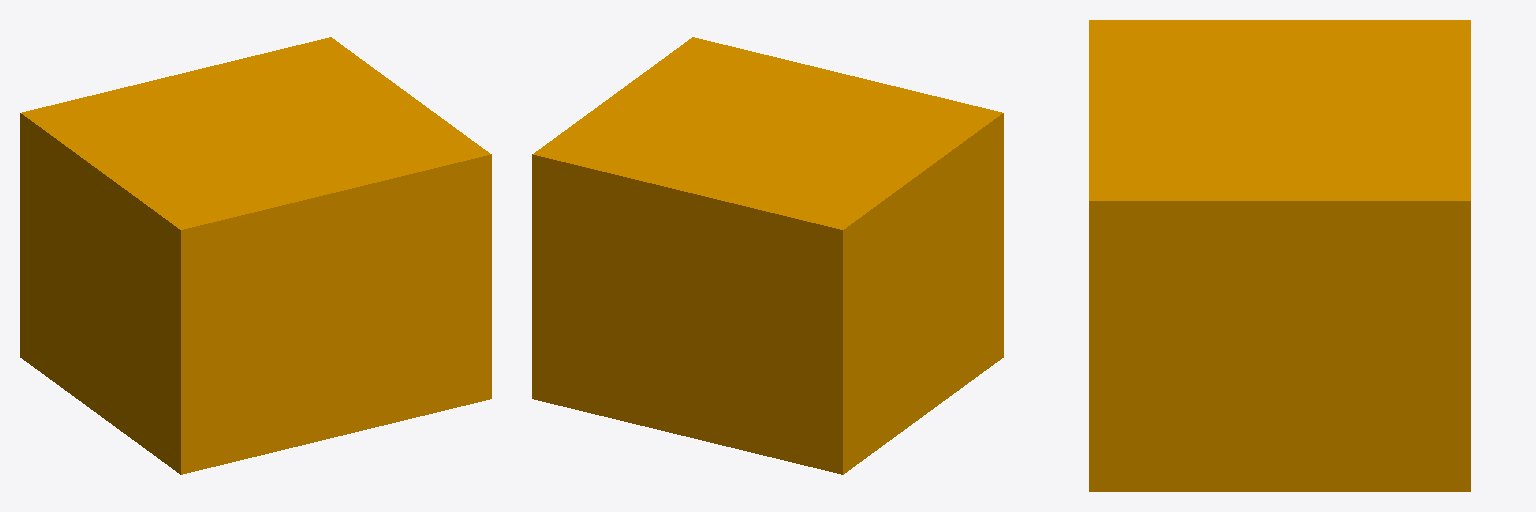
robot.urdf — object:
<?xml version="1.0"?>
<!-- Auto-generated by tools/gen_primitive_objects.py. kind=box dims=(0.078048, 0.069789, 0.05875) -->
<robot name="object">
  <link name="object">
    <visual>
      <origin xyz="0 0 0"/>
      <geometry>
        <box size="0.078048 0.069789 0.058750"/>
      </geometry>
    </visual>
    <collision>
      <origin xyz="0 0 0"/>
      <geometry>
        <box size="0.078048 0.069789 0.058750"/>
      </geometry>
    </collision>
    <inertial>
      <mass value="0.064001"/>
      <inertia ixx="0.00004439" ixy="0.0" ixz="0.0" iyy="0.00005090" iyz="0.0" izz="0.00005846"/>
    </inertial>
  </link>
</robot>

--- Render facts (derived) ---
Views: 3 orthographic renders of the robot side by side, from view 1: azimuth 30°, elevation 25°; view 2: azimuth 150°, elevation 25°; view 3: azimuth 270°, elevation 25°.
Robot: object — 1 links, 0 joints (none); root link object; default pose: all joints at 0.
Visible links, largest first — view 1: object; view 2: object; view 3: object.
Boxes of the visible links, x1=… form: object: x1=20, y1=37, x2=491, y2=474; object: x1=532, y1=37, x2=1003, y2=474; object: x1=1089, y1=20, x2=1470, y2=491.
Bounding box of the posed robot: 0.078 × 0.0698 × 0.0587 m (x, y, z).
Geometry: primitives only (box / cylinder / sphere), no mesh files.
